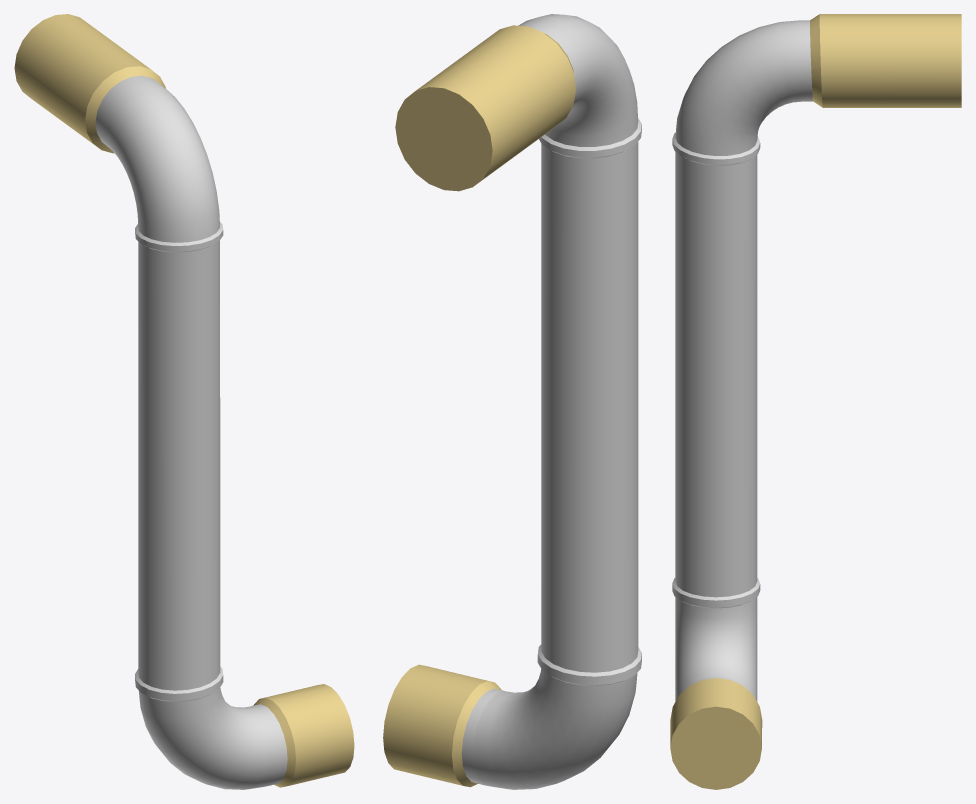
File: SP_House09_Pipe04.fbx
The picture shows the model from 3 angles, left to right: view 1: azimuth 30°, elevation 25°; view 2: azimuth 150°, elevation 25°; view 3: azimuth 270°, elevation 25°; orthographic projection. The views are drawn at different scales.
Parts seen in each view (by area): view 1: SP_House09_Pipe04; view 2: SP_House09_Pipe04; view 3: SP_House09_Pipe04.
Part boxes in pixels (box(x1,y1,x2,y2)): SP_House09_Pipe04: box(14, 14, 354, 789); SP_House09_Pipe04: box(383, 14, 641, 789); SP_House09_Pipe04: box(670, 14, 961, 789).
Bounding box in the file's own units: 1.65 × 5.74 × 2.17.
